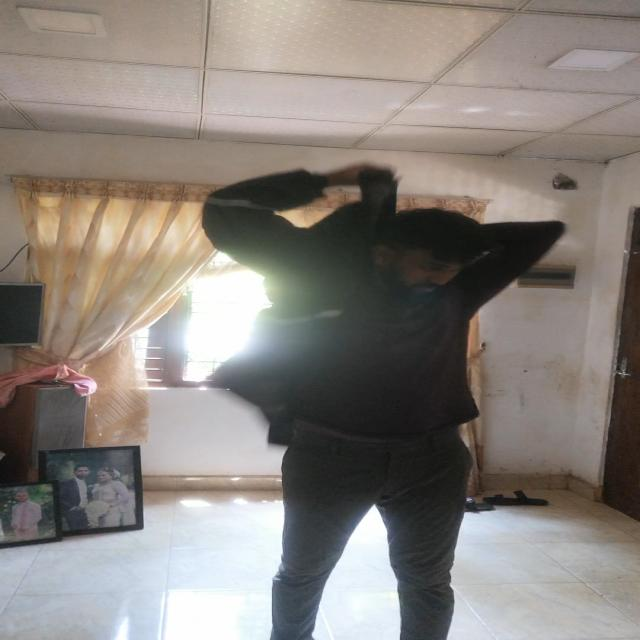Jacket_Wearer: (192, 168, 569, 454)
Person: (200, 157, 560, 640)
